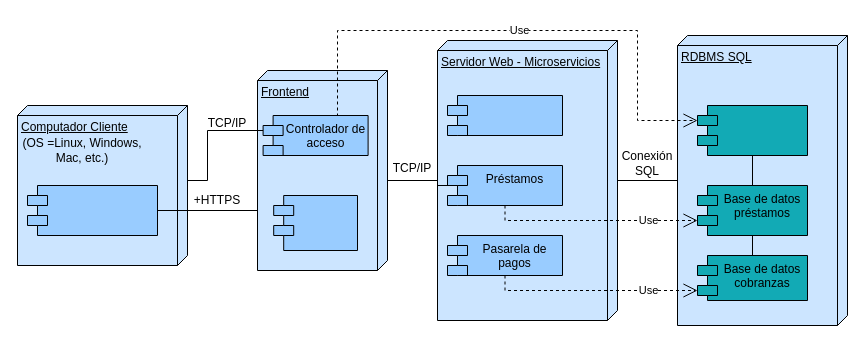
Image size: 865x343. Some labels were removed from this diagram. The centre of each missing label's shape, as x and y in pixels:
"Base de datos Usuarios" goes at (752,130).
"Interfaz basada en Rol" goes at (315,222).
"Navegador Web - Chrome, Firefox" goes at (92,210).
"Sistema SAC-ML" goes at (504,115).
